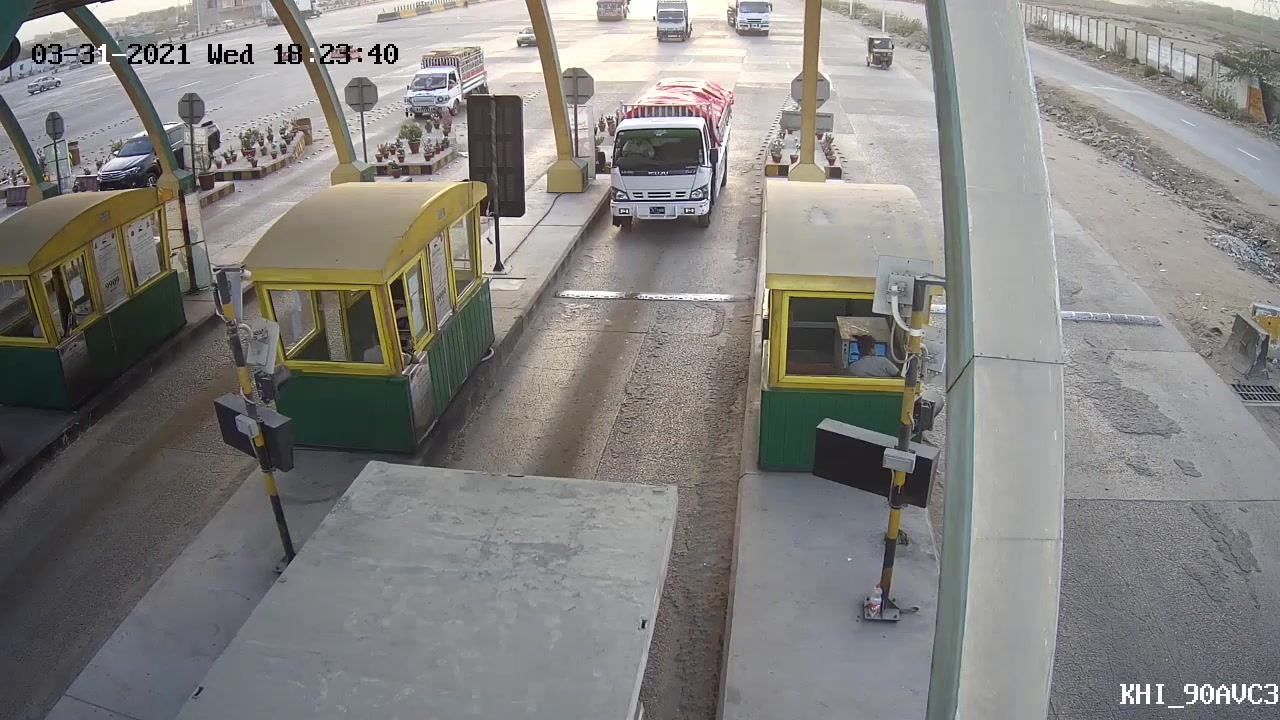F3: (593, 89, 740, 233)
